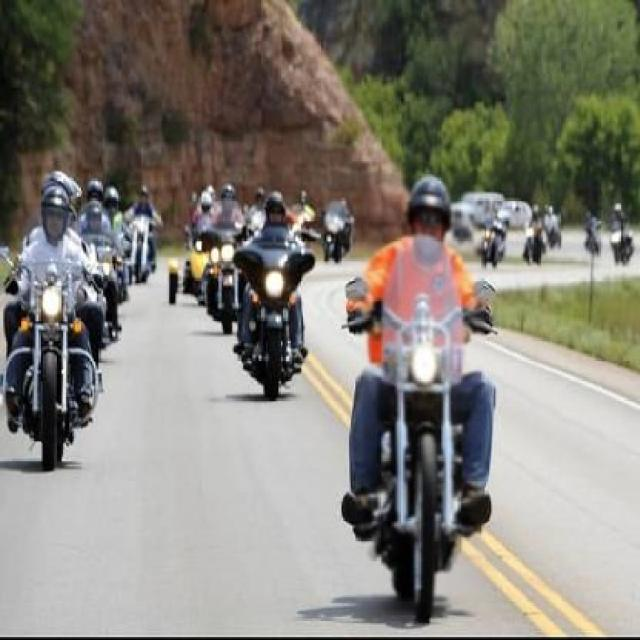helmet: (399, 170, 471, 272), (20, 180, 74, 236), (262, 178, 292, 225)
motorcycle: (355, 164, 495, 640), (0, 170, 103, 476), (206, 179, 325, 427)
